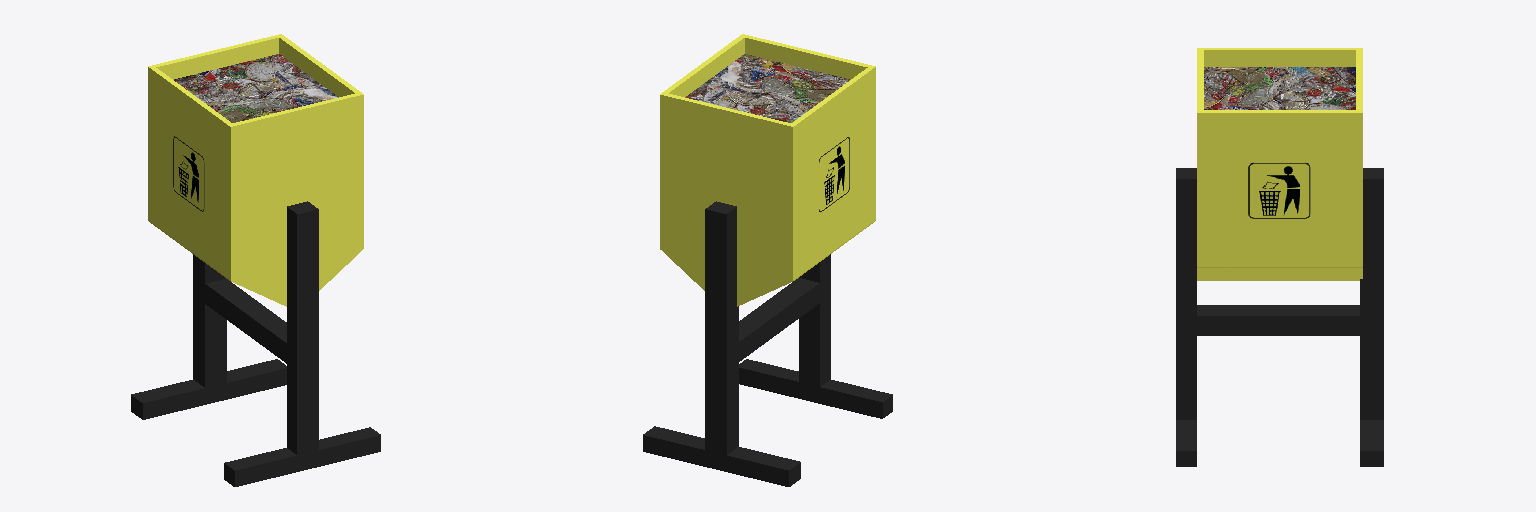
3 renders of one model, left to right at view 1: azimuth 30°, elevation 25°; view 2: azimuth 150°, elevation 25°; view 3: azimuth 270°, elevation 25°, orthographic.
Parts seen in each view (by area): view 1: Box01; view 2: Box01; view 3: Box01.
Part boxes in pixels (bbox=[...]): Box01: bbox=[131, 34, 380, 486]; Box01: bbox=[643, 34, 892, 486]; Box01: bbox=[1176, 48, 1383, 466].
Bounding box in the file's own units: 0.274 × 0.6276 × 0.3367.
Materials: 1 (1 with a texture image).